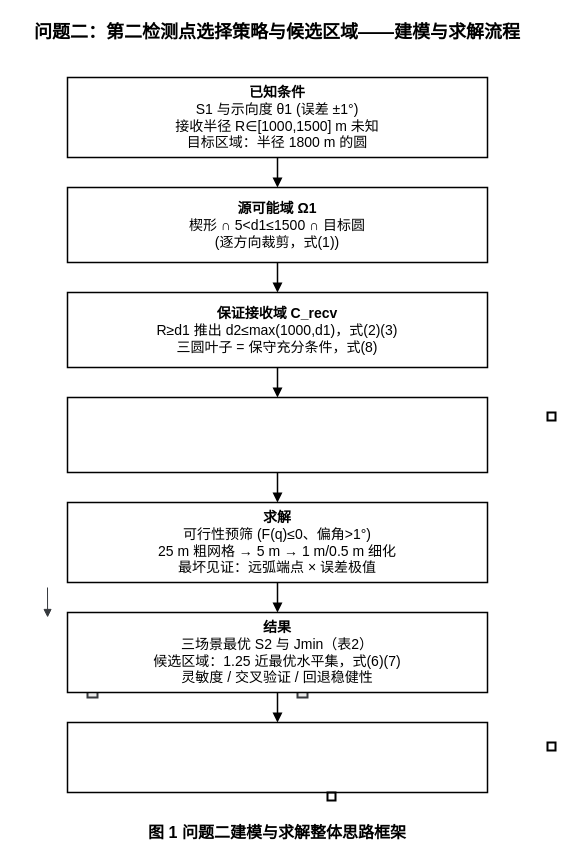
Image size: 573x864. Some labels were removed from this diagram. Here are the shapes that lost their labels. From the top down, the box of each, then its label:
(66, 396, 488, 473): 目标函数 J：最坏定位区域直径 后验裁剪 Ω2=W1∩W2∩Ω1∩{5<d2≤1500}，式(4)(5) 近场 d2≤5 m → Ω1∩B(q,5)
(66, 721, 488, 793): 输出 第二检测点选择策略 + 候选区域 为问题三多点序列清除提供粗定位
